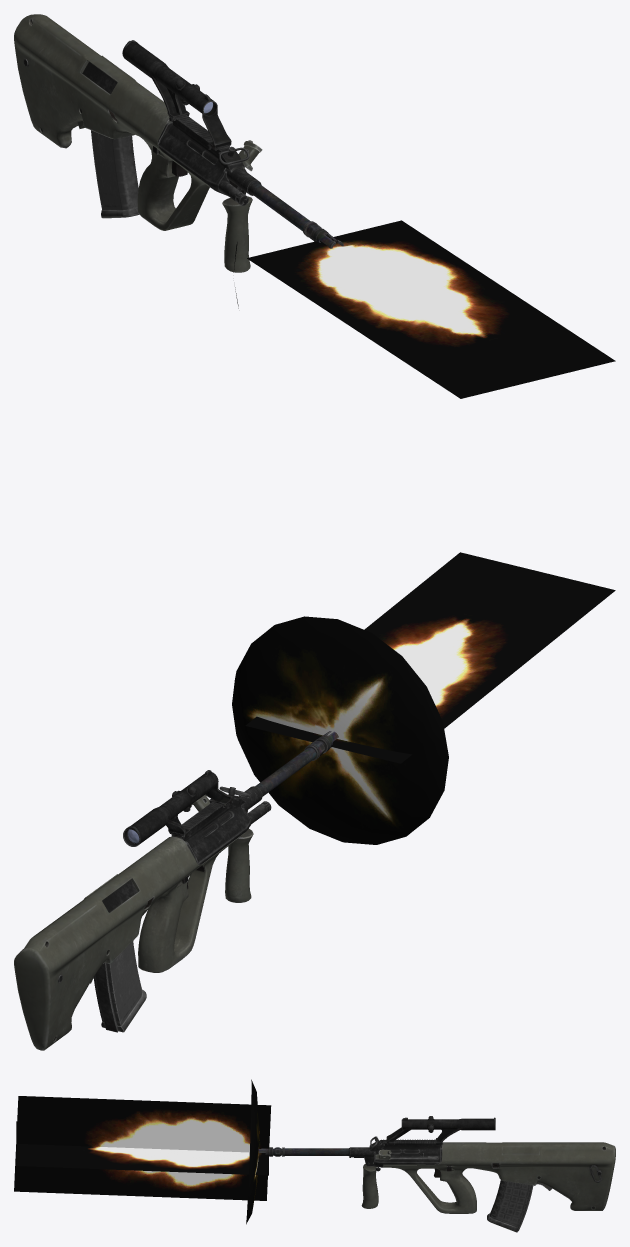
Rendered from AUG.glb.
3 renders of one model, top to bottom at view 1: azimuth 30°, elevation 25°; view 2: azimuth 150°, elevation 25°; view 3: azimuth 270°, elevation 25°, orthographic. The views are drawn at different scales.
Visible parts, largest first — view 1: MuzzleFlash, AUG_upd (×3), AUG_upd_scope (×3), AUG_upd_mag; view 2: MuzzleFlash, AUG_upd (×3), AUG_upd_mag (×2), AUG_upd_scope (×2); view 3: MuzzleFlash, AUG_upd (×3), AUG_upd_scope (×2), AUG_upd_mag.
Boxes of the visible parts, left/top/right/bottom form: MuzzleFlash: left=233, top=220, right=615, bottom=398; AUG_upd (×3): left=14, top=14, right=343, bottom=272; AUG_upd_scope (×3): left=122, top=40, right=231, bottom=150; AUG_upd_mag: left=91, top=88, right=139, bottom=218; MuzzleFlash: left=232, top=552, right=615, bottom=844; AUG_upd (×3): left=14, top=731, right=338, bottom=1050; AUG_upd_mag (×2): left=93, top=898, right=146, bottom=1032; AUG_upd_scope (×2): left=123, top=770, right=232, bottom=846; MuzzleFlash: left=14, top=1079, right=271, bottom=1224; AUG_upd (×3): left=258, top=1136, right=615, bottom=1213; AUG_upd_scope (×2): left=386, top=1116, right=495, bottom=1144; AUG_upd_mag: left=487, top=1180, right=533, bottom=1232.
Size of the model in its own units: 0.2492 by 0.2692 by 1.02.
Materials: 2 (2 with a texture image).
